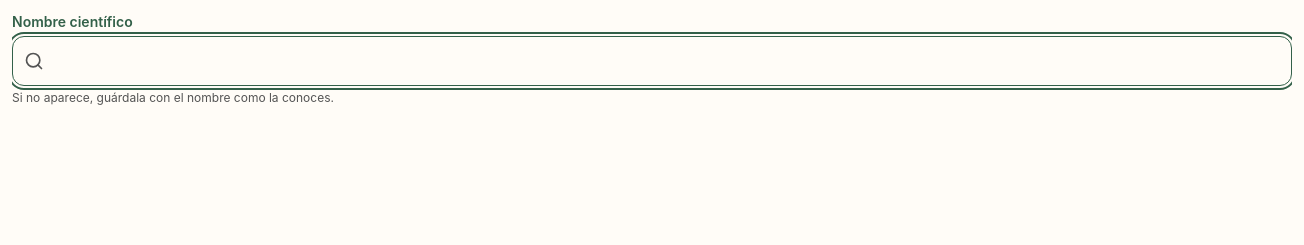
Test case: Autocomplete › abre la lista al escribir y anuncia el número de resultados
Type "phal" into the dropdown labelled "Nombre científico" at [652, 61], box x1=12 y1=36 x2=1292 y2=86
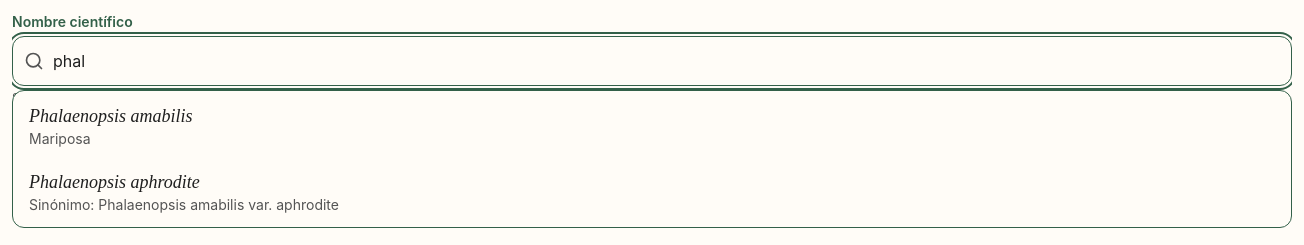
Expected: the dropdown labelled "Nombre científico" is expanded, x1=12 y1=36 x2=1292 y2=86
Expected: the number of options is 2, x1=28 y1=106 x2=192 y2=147; x1=28 y1=172 x2=339 y2=213
